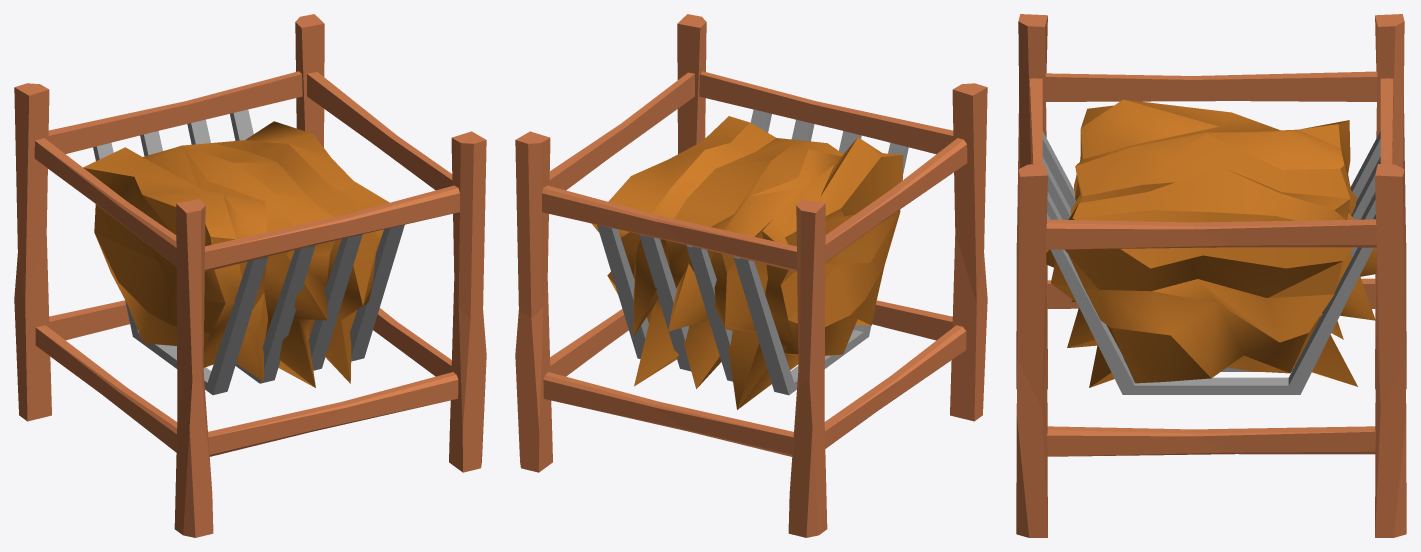
File: Feeder_2_w_Hay.fbx
The picture shows the model from 3 angles, left to right: view 1: azimuth 30°, elevation 25°; view 2: azimuth 150°, elevation 25°; view 3: azimuth 270°, elevation 25°; orthographic projection. The views are drawn at different scales.
Visible parts, largest first — view 1: Feeder_2_w_Hay; view 2: Feeder_2_w_Hay; view 3: Feeder_2_w_Hay.
Boxes of the visible parts, x1=… form: Feeder_2_w_Hay: x1=14, y1=14, x2=486, y2=537; Feeder_2_w_Hay: x1=515, y1=14, x2=987, y2=537; Feeder_2_w_Hay: x1=1016, y1=14, x2=1406, y2=537.
Bounding box in the file's own units: 37.58 × 38.92 × 38.07.
